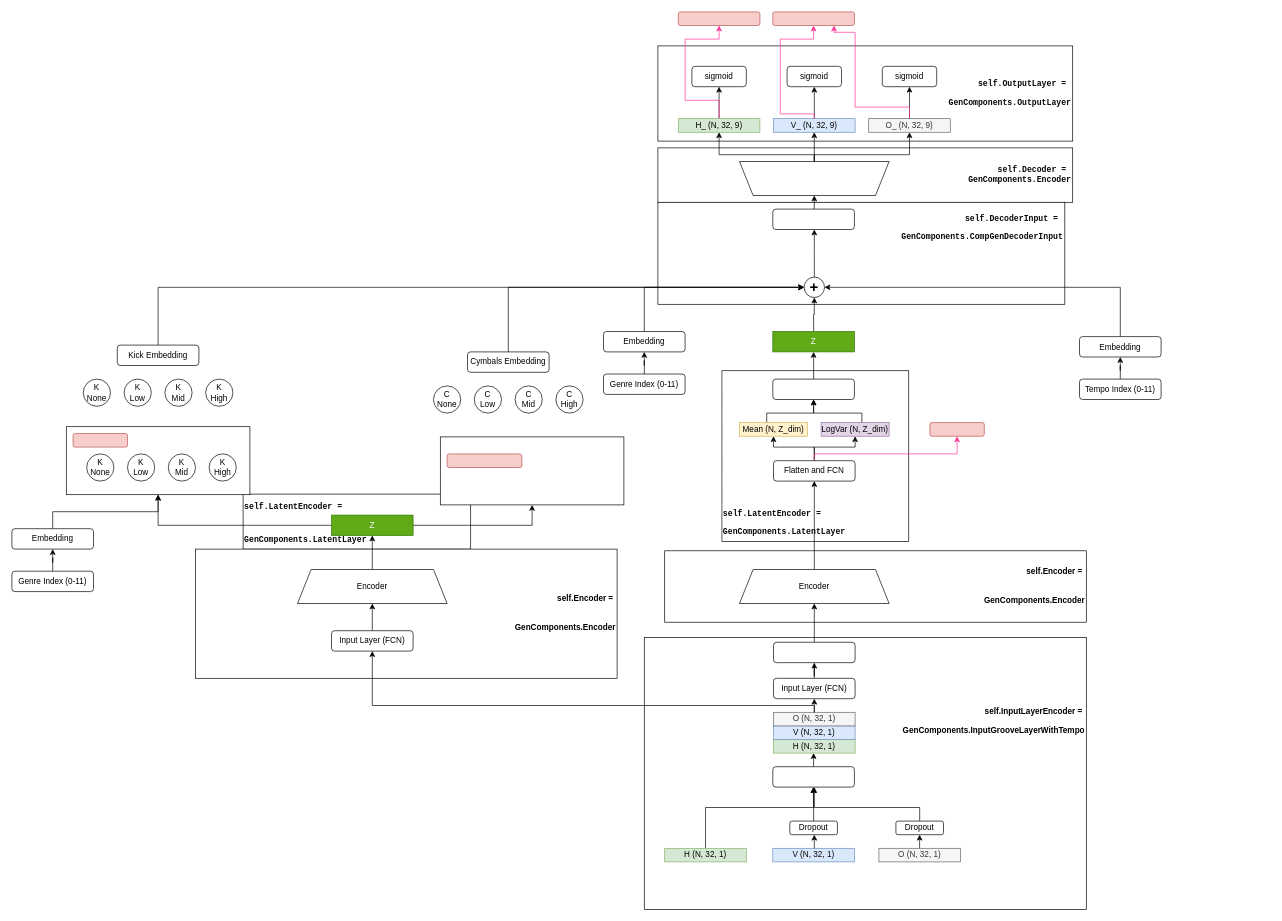
Some shapes in this 1282 by 921 pixel diagram are drawn without their labels. The shapes that lost their labels are listed below. From the top down, each one's centre as x and y in pixels, then its label:
At point 719,18: "FocalLoss".
At point 813,18: "BCEWithLogitLoss".
At point 814,178: "Decoder".
At point 813,219: "FCN and Reshape".
At point 813,389: "Reparametrize".
At point 100,440: "Kick Softmax".
At point 956,429: "KLDiv".
At point 484,460: "Cymbals Softmax".
At point 814,652: "PositionalEncoding".
At point 813,776: "concat".
